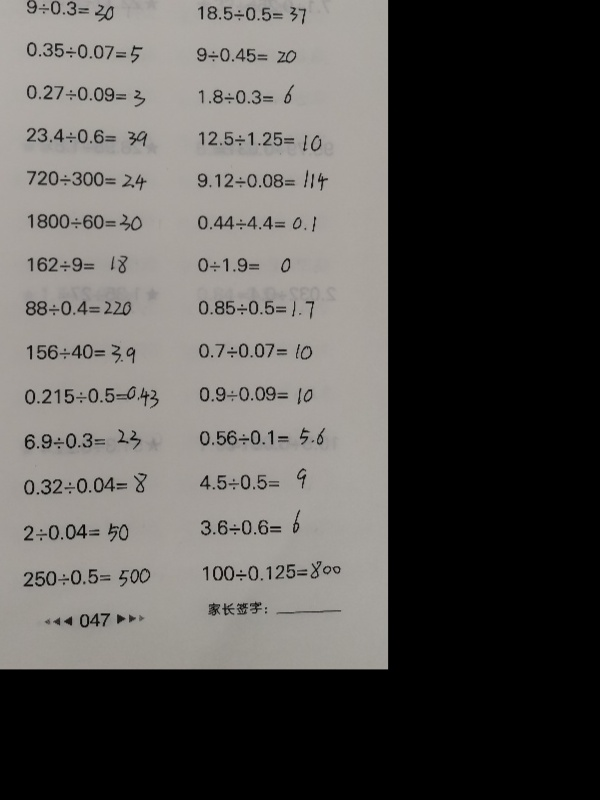equation: (20, 380, 162, 409), (19, 248, 140, 281), (193, 164, 331, 192), (198, 558, 344, 584), (196, 465, 316, 496), (19, 469, 150, 497), (20, 564, 155, 590), (21, 425, 145, 453), (194, 126, 325, 152), (196, 423, 329, 448), (196, 509, 304, 539), (22, 81, 149, 106), (194, 250, 307, 278), (22, 39, 146, 64), (195, 297, 318, 322), (22, 167, 149, 191), (22, 339, 138, 365), (23, 209, 145, 233), (23, 125, 150, 148), (195, 382, 316, 406), (194, 338, 315, 362), (193, 0, 309, 25), (193, 211, 319, 234), (21, 520, 133, 545), (195, 81, 298, 108), (22, 297, 135, 319), (192, 44, 300, 66), (22, 0, 118, 21)
